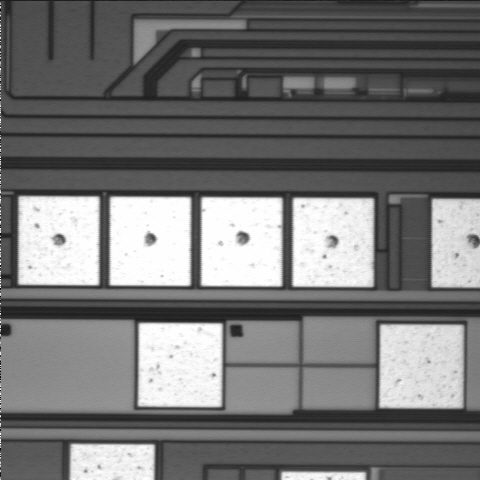pad: (18, 196, 99, 285), (110, 197, 191, 286), (201, 197, 282, 286), (293, 198, 374, 287), (138, 323, 222, 407), (380, 325, 463, 408)
